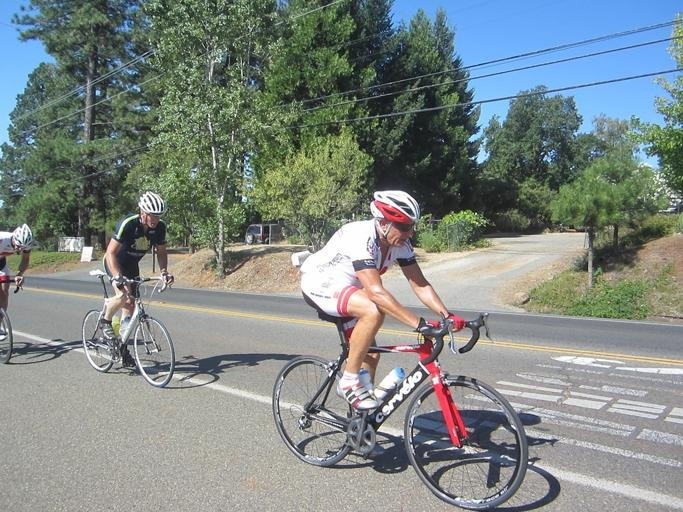non-vehicle: (271, 309, 528, 510), (81, 268, 175, 388), (0, 280, 23, 363)
